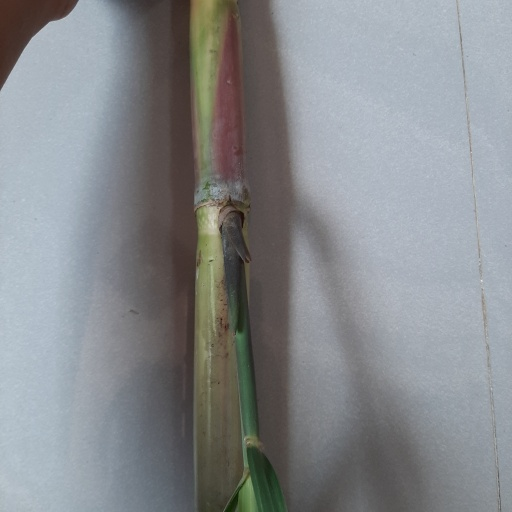Sprouted_Bud: (217, 201, 248, 246)
